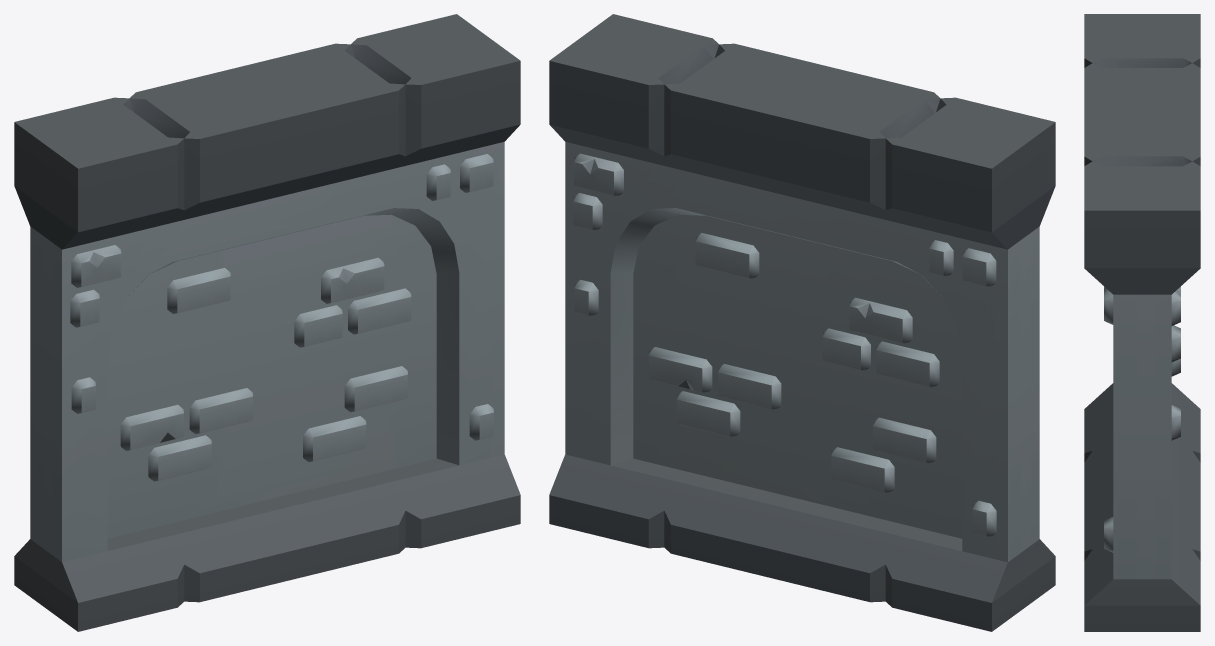
Rendered from kaykit-dungeon-remastered-wall-arched-gltf.glb.
3 renders of one model, left to right at view 1: azimuth 30°, elevation 25°; view 2: azimuth 150°, elevation 25°; view 3: azimuth 270°, elevation 25°, orthographic. The views are drawn at different scales.
Visible parts, largest first — view 1: wall_arched; view 2: wall_arched; view 3: wall_arched.
Part boxes in pixels (x1,y1,x2,y2): wall_arched: (14,14,520,631); wall_arched: (549,14,1055,631); wall_arched: (1084,14,1200,631).
Bounding box in the file's own units: 4 × 4 × 1.
Materials: 1 (1 with a texture image).
